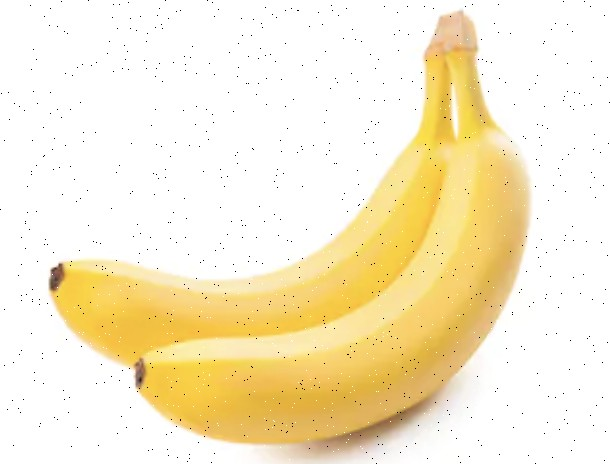fresh_banana: (50, 11, 530, 446)
